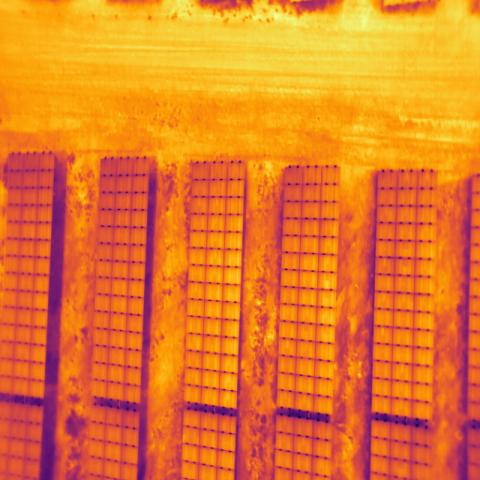fault: (318, 270, 336, 290)
